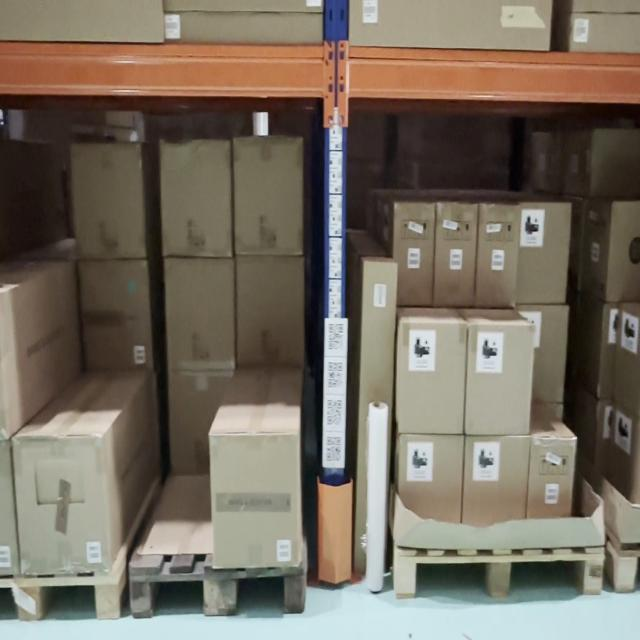box: (14, 437, 111, 574), (210, 432, 297, 564), (71, 145, 145, 256), (78, 260, 152, 370), (165, 260, 235, 368), (235, 140, 302, 252), (164, 142, 229, 254), (168, 371, 233, 476), (400, 323, 462, 432), (239, 258, 303, 360), (470, 324, 528, 432), (464, 437, 529, 523), (399, 436, 464, 516), (519, 306, 569, 403), (517, 205, 567, 300), (434, 204, 478, 304), (395, 205, 431, 302), (481, 206, 514, 307), (532, 437, 571, 515)
